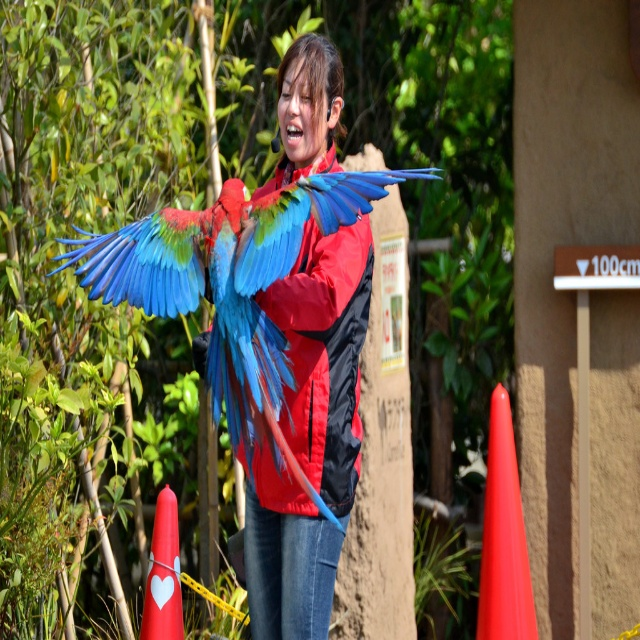Parrot: (44, 168, 446, 538)
